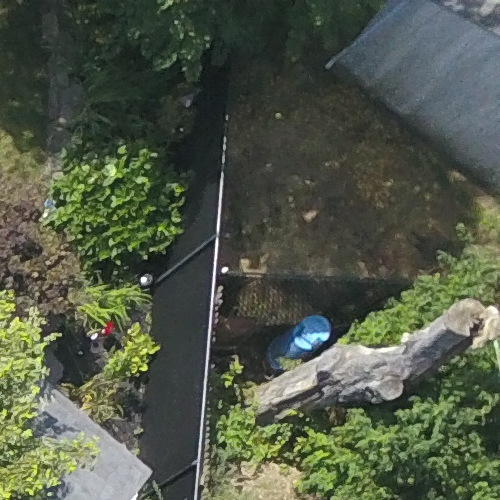container: (259, 310, 332, 377)
